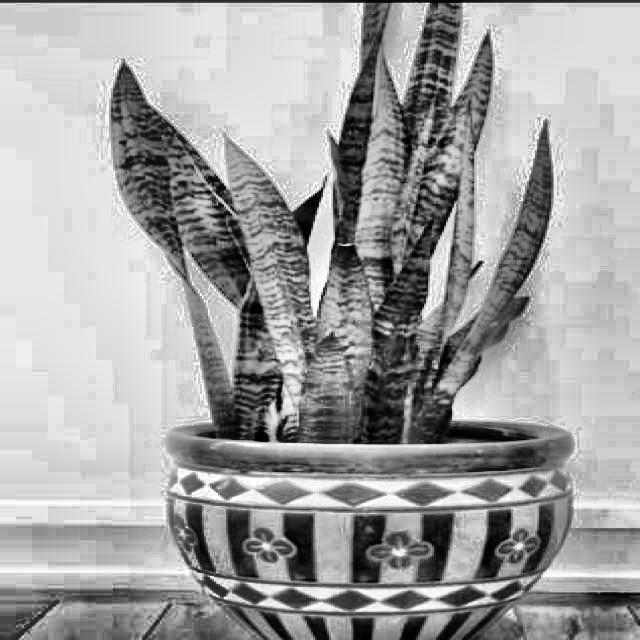plants: (90, 6, 602, 638)
